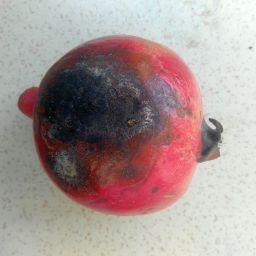pomegranate: (18, 34, 223, 217)
